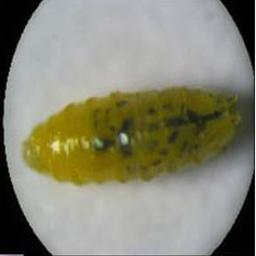liriomyza: (19, 84, 242, 189)
